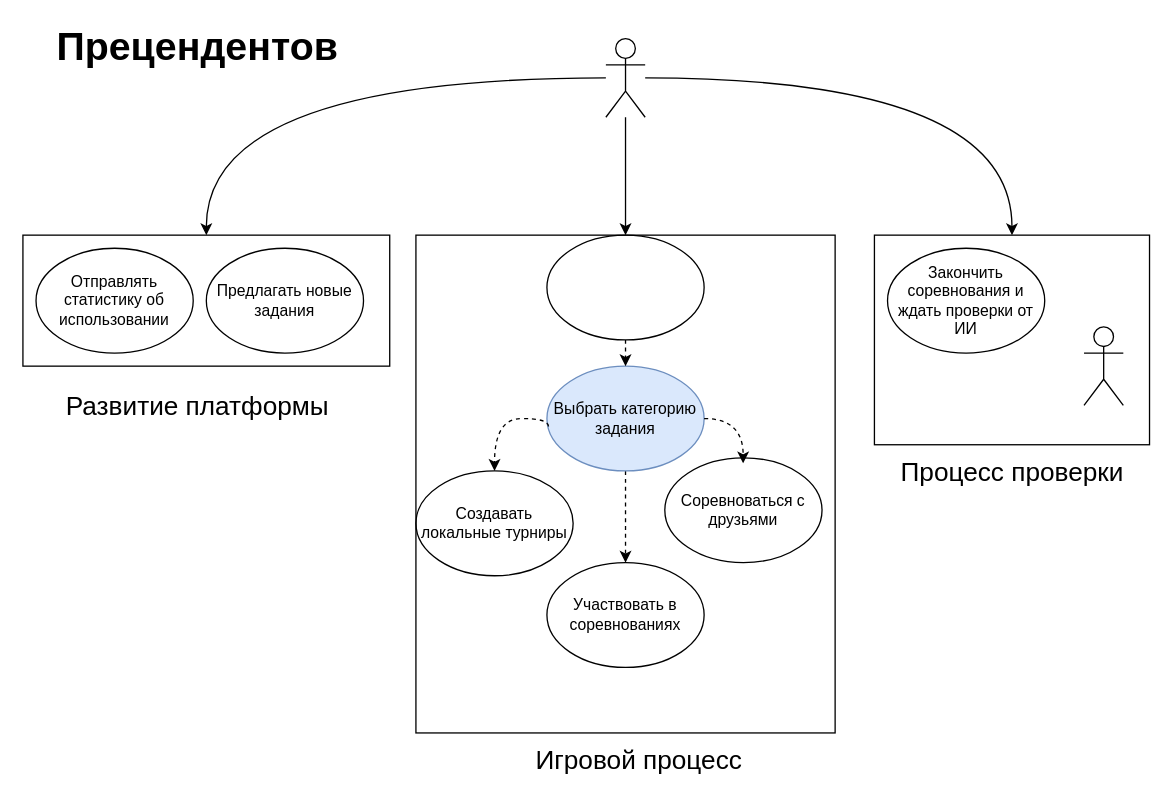
This 1172x796 diagram has some shape labels left out. Each missing label, with the centre of its shape:
Авторизоваться/ зарегистрироваться: the point at 625,287
ИИ: the point at 1103,365
Пользователь: the point at 625,77
